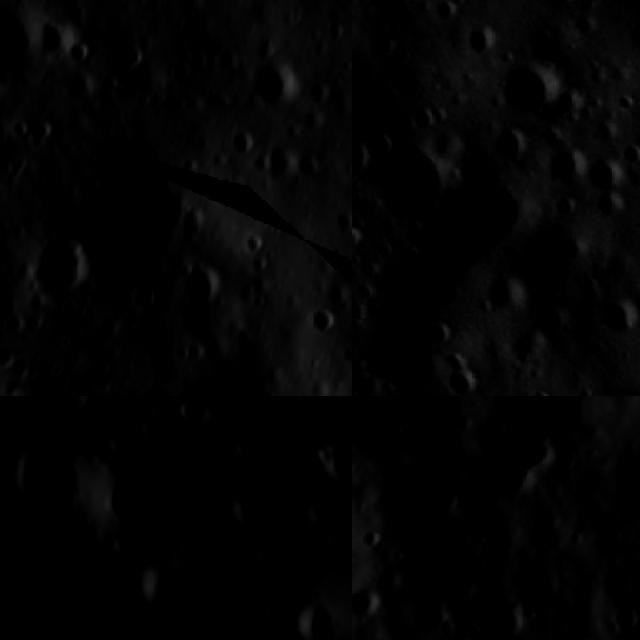crater: (407, 172, 545, 304), (87, 442, 198, 556), (0, 427, 96, 544), (358, 124, 458, 225), (22, 228, 96, 305), (492, 54, 568, 122), (275, 491, 347, 562), (129, 553, 196, 625), (239, 47, 303, 111), (308, 425, 352, 504), (279, 592, 347, 640), (478, 269, 532, 320), (180, 255, 228, 311), (548, 80, 595, 128), (358, 119, 407, 164), (458, 18, 506, 62), (160, 396, 207, 438), (404, 100, 453, 140), (504, 330, 556, 367), (597, 296, 640, 339), (62, 34, 102, 76), (588, 184, 630, 224), (586, 154, 628, 194), (0, 526, 15, 626), (303, 304, 342, 342), (424, 0, 470, 32), (352, 134, 380, 185), (220, 124, 260, 159), (67, 396, 114, 424), (209, 396, 274, 416), (436, 368, 482, 396), (128, 276, 156, 314), (421, 320, 452, 354), (424, 623, 486, 640), (352, 278, 385, 309), (7, 113, 38, 145), (353, 260, 388, 288), (548, 191, 582, 218), (613, 139, 640, 170), (537, 0, 585, 17), (239, 228, 266, 258), (622, 14, 640, 54)
